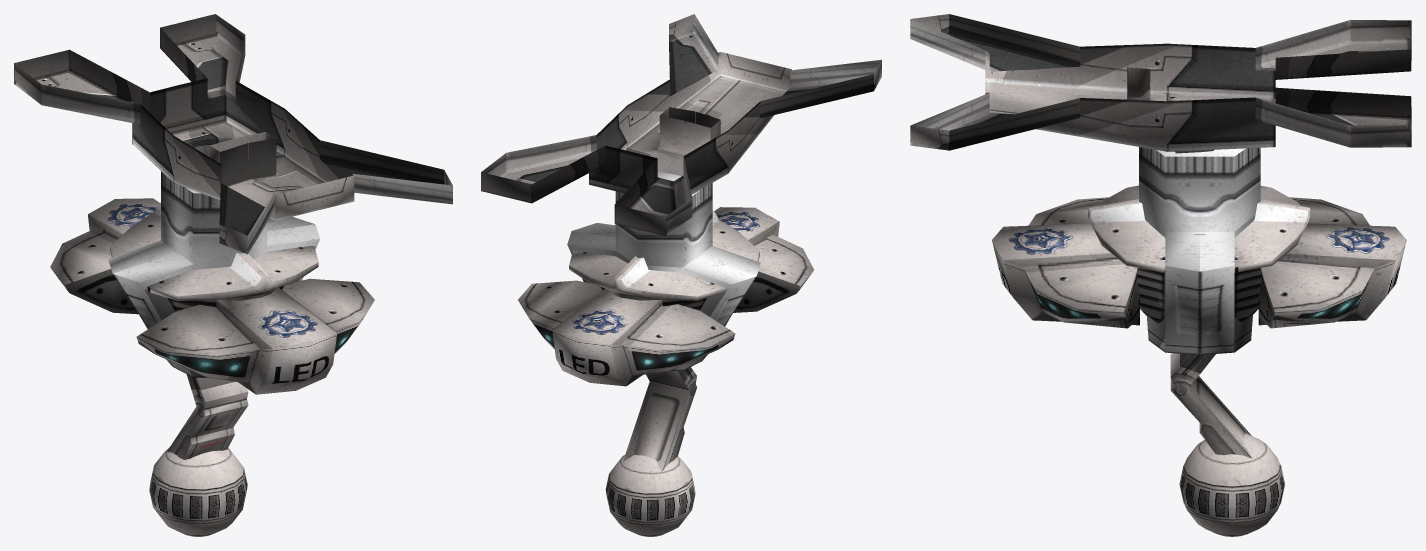
Rendered from turret_ceiling.glb.
3 views of the same model, side by side, from view 1: azimuth 30°, elevation 25°; view 2: azimuth 150°, elevation 25°; view 3: azimuth 270°, elevation 25° (orthographic). The views are drawn at different scales.
Visible parts, largest first — view 1: Box09, __lithtech_lh_to_gltf_rh__, Box11; view 2: Box09, __lithtech_lh_to_gltf_rh__, Box11; view 3: Box09, __lithtech_lh_to_gltf_rh__, Box11.
Boxes of the visible parts, x1,y1,x2,y2 form: Box09: (14,14,452,536); __lithtech_lh_to_gltf_rh__: (50,198,374,394); Box11: (108,171,319,377); Box09: (481,14,881,536); __lithtech_lh_to_gltf_rh__: (518,207,813,386); Box11: (567,171,760,370); Box09: (910,14,1411,536); __lithtech_lh_to_gltf_rh__: (992,197,1406,328); Box11: (1139,147,1260,354).
Size of the model in its own units: 52.97 by 96.88 by 95.65.
Materials: 2 (2 with a texture image).
